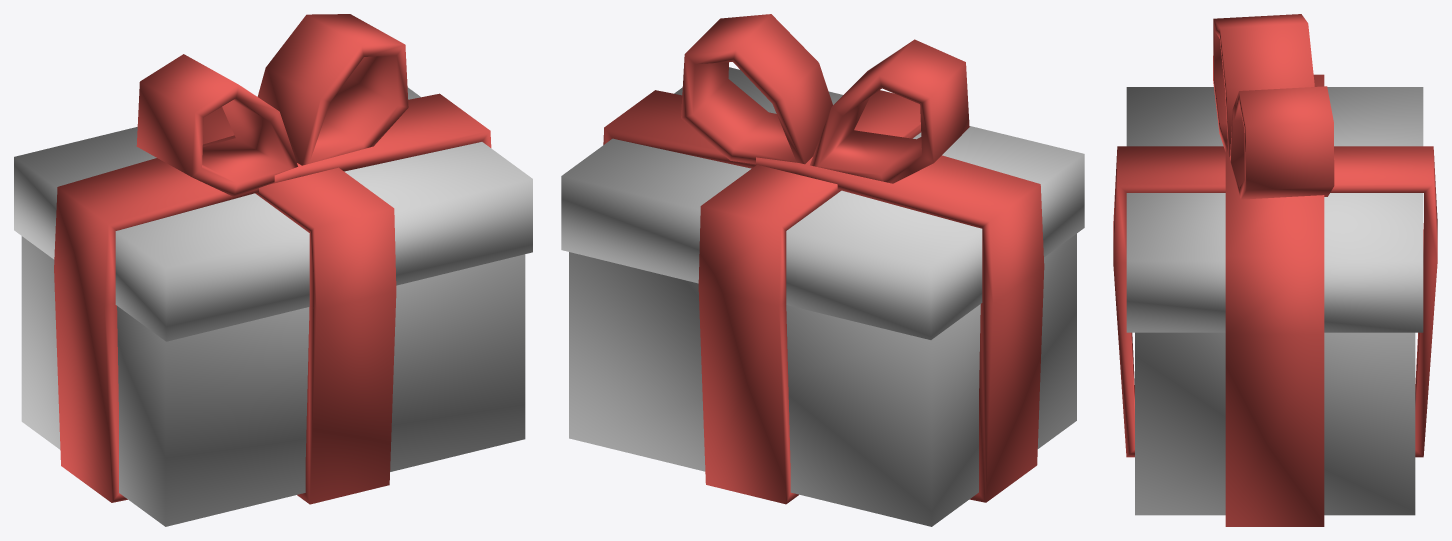
File: GiftBox_Small.fbx
3 renders of one model, left to right at view 1: azimuth 30°, elevation 25°; view 2: azimuth 150°, elevation 25°; view 3: azimuth 270°, elevation 25°, orthographic. The views are drawn at different scales.
Parts seen in each view (by area): view 1: GiftBox_Small; view 2: GiftBox_Small; view 3: GiftBox_Small.
Boxes of the visible parts, x1,y1,x2,y2 form: GiftBox_Small: (14,14,532,526); GiftBox_Small: (561,14,1084,526); GiftBox_Small: (1113,14,1437,526).
Size of the model in its own units: 81.34 by 79.48 by 60.25.
